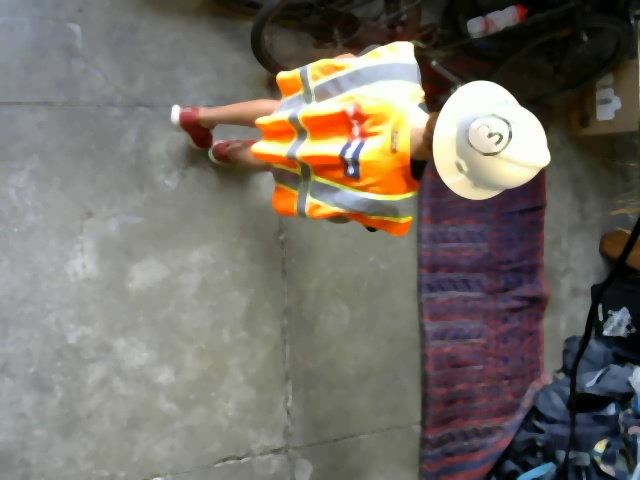three: (466, 116, 510, 155)
